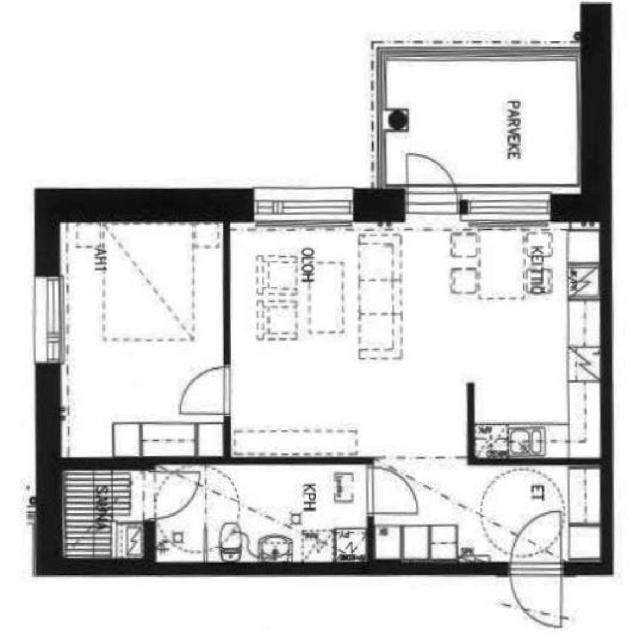door: (504, 509, 566, 627), (400, 148, 464, 222), (174, 357, 236, 420), (142, 459, 202, 524), (365, 458, 423, 523)
window: (250, 182, 361, 231), (459, 182, 562, 229), (30, 262, 70, 376)
zone: (385, 224, 609, 454), (226, 222, 424, 470), (58, 213, 230, 460), (380, 55, 584, 191), (373, 456, 596, 570), (160, 460, 373, 568), (57, 462, 150, 568)
